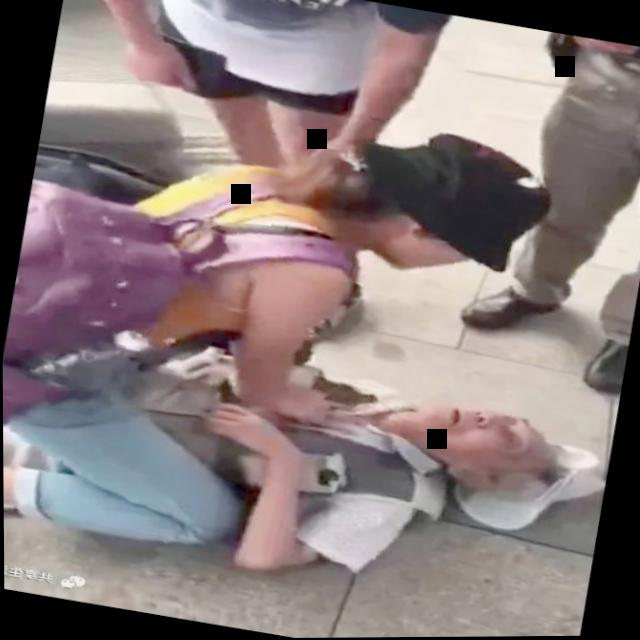Fall-Detected: (2, 295, 604, 640)
